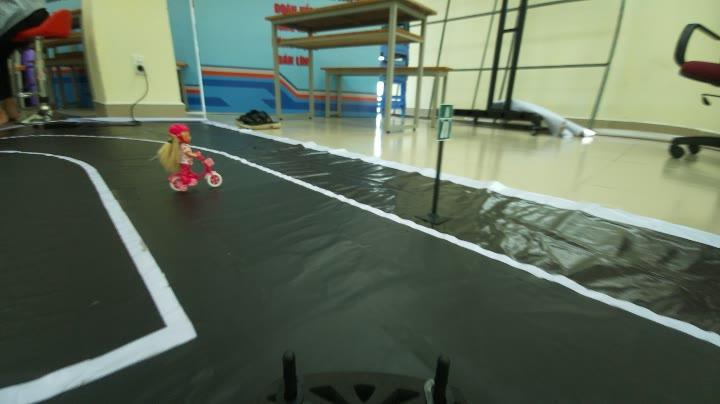highway_entry: (432, 102, 466, 144)
pedestrian: (153, 123, 236, 192)
